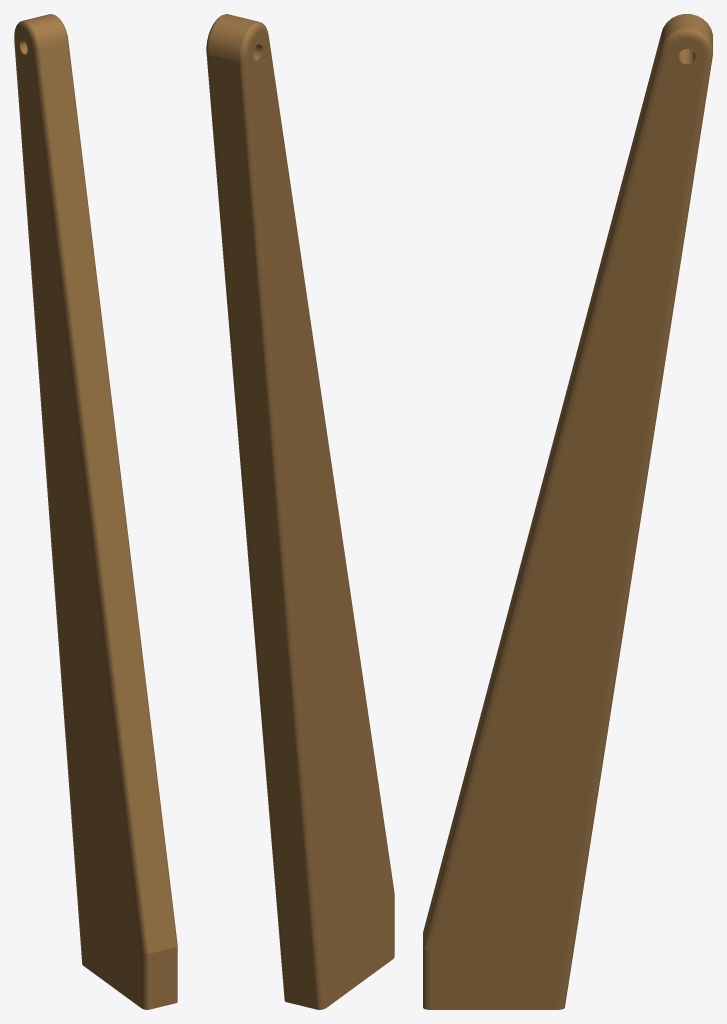
File: original-3.obj
The picture shows the model from 3 angles, left to right: view 1: azimuth 30°, elevation 25°; view 2: azimuth 150°, elevation 25°; view 3: azimuth 270°, elevation 25°; orthographic projection. The views are drawn at different scales.
Visible parts, largest first — view 1: Group4/mesh4/mesh4-geometry#mesh4-geometry; view 2: Group4/mesh4/mesh4-geometry#mesh4-geometry; view 3: Group4/mesh4/mesh4-geometry#mesh4-geometry.
Boxes of the visible parts, box(x1,y1,x2,y2) form: Group4/mesh4/mesh4-geometry#mesh4-geometry: box(14, 14, 177, 1009); Group4/mesh4/mesh4-geometry#mesh4-geometry: box(206, 14, 394, 1009); Group4/mesh4/mesh4-geometry#mesh4-geometry: box(423, 14, 712, 1009).
Size of the model in its own units: 0.0435 by 1.06 by 0.2843.
